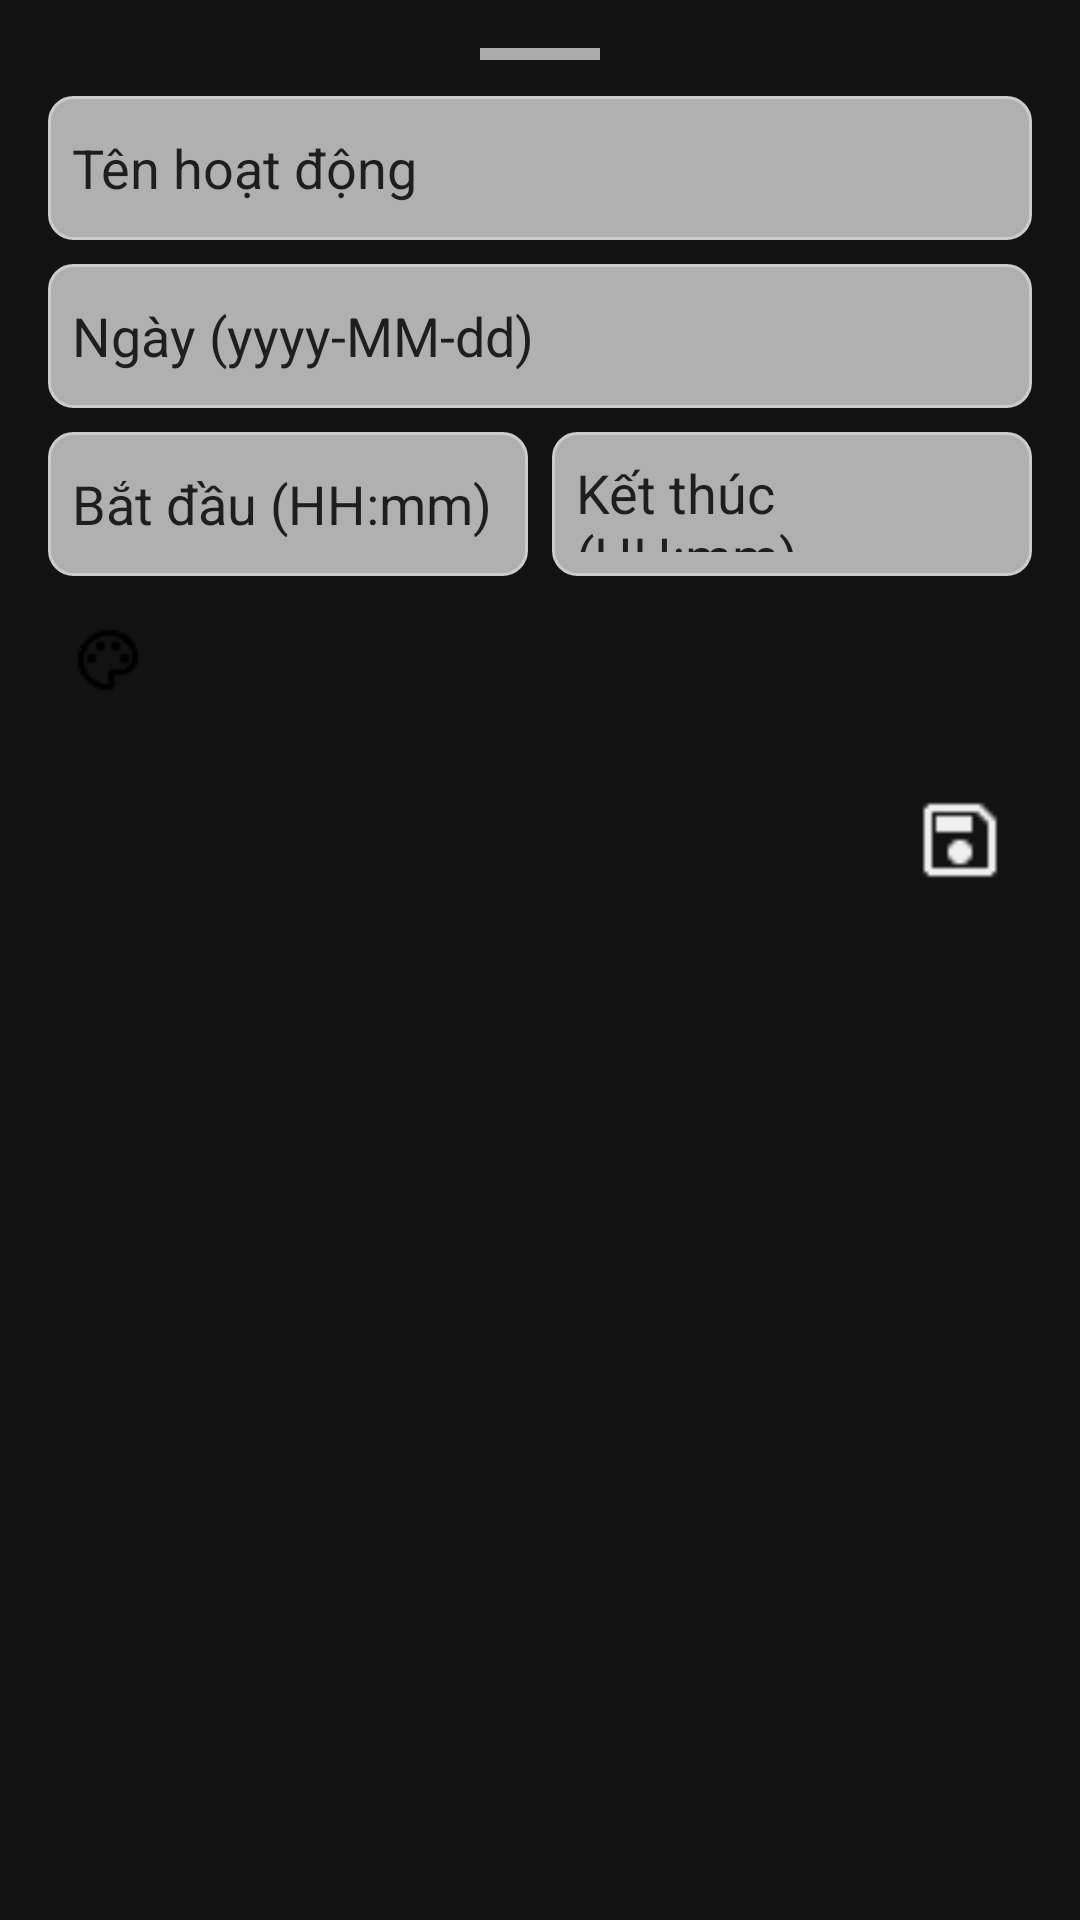

Where to tap for icons on this 1080x1920 app screen, as [x,y]:
Lưu: [960,840]
